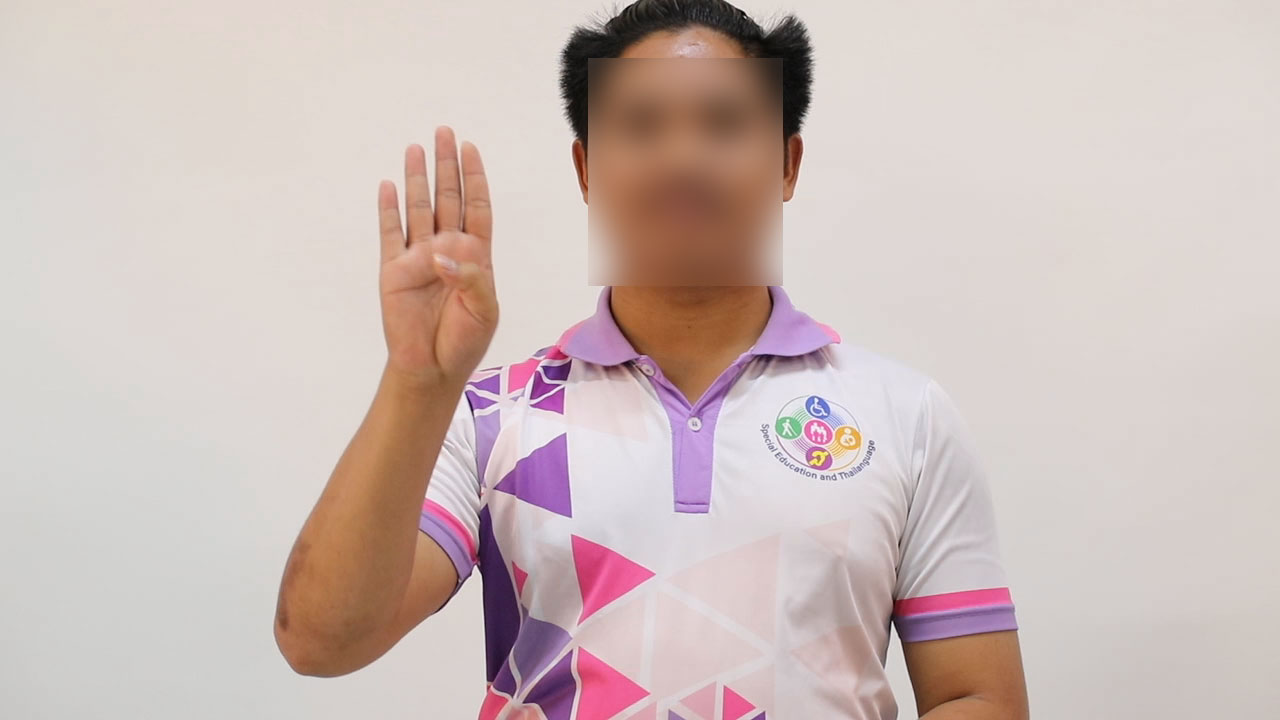bor: (344, 114, 522, 418)
